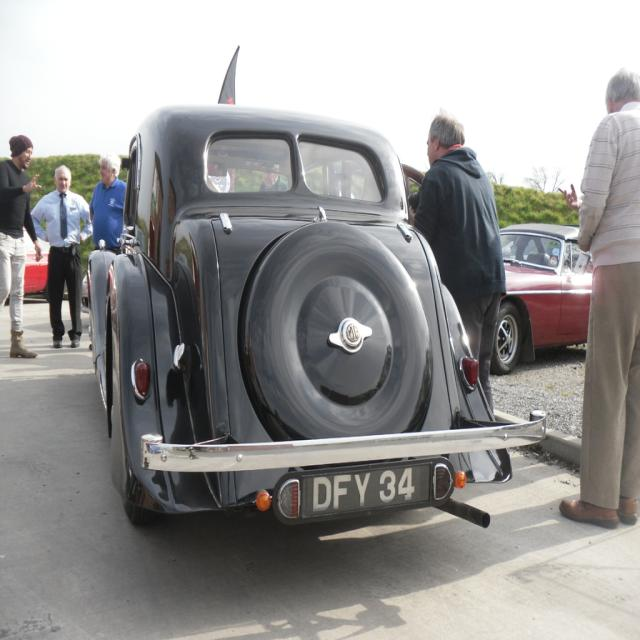car: (69, 67, 485, 544)
